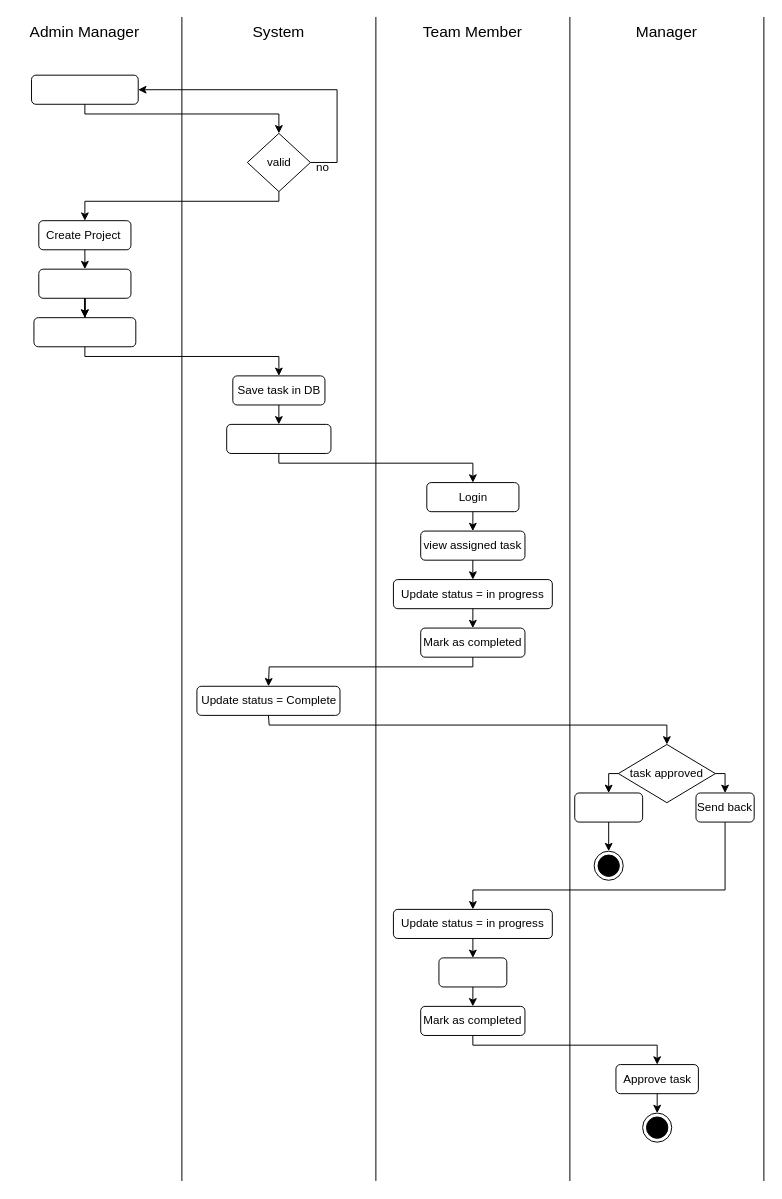
Some shapes in this 782 by 1199 pixel diagram are drawn without their labels. Each missing label, with the centre of its shape:
"Assign task to team member" goes at (x=84, y=332).
"Close task" goes at (x=608, y=807).
"Enter login details" goes at (x=84, y=89).
"Enter task details" goes at (x=84, y=283).
"Rework" goes at (x=472, y=972).
"Set status = To Do" goes at (x=278, y=438).
